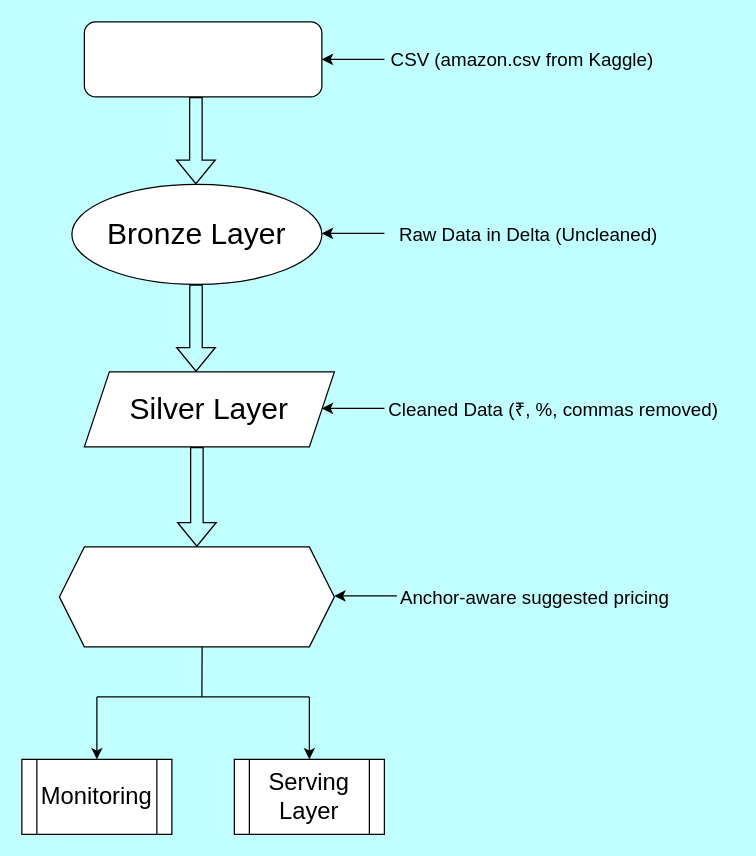
Some shapes in this 756 by 856 pixel diagram are drawn without their labels. Each missing label, with the box of its shape:
Gold Layer: (58, 546, 334, 647)
Ingestion: (83, 21, 322, 97)
